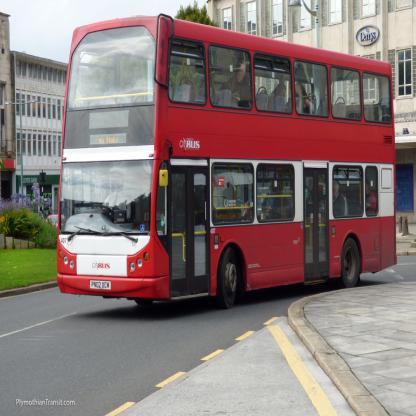bus: (56, 13, 399, 312)
